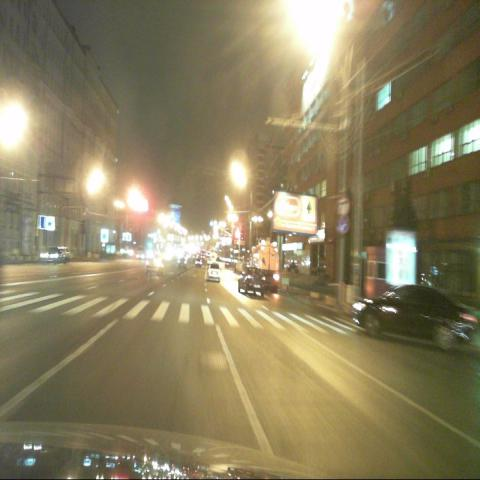3_18: (338, 195, 349, 215)
